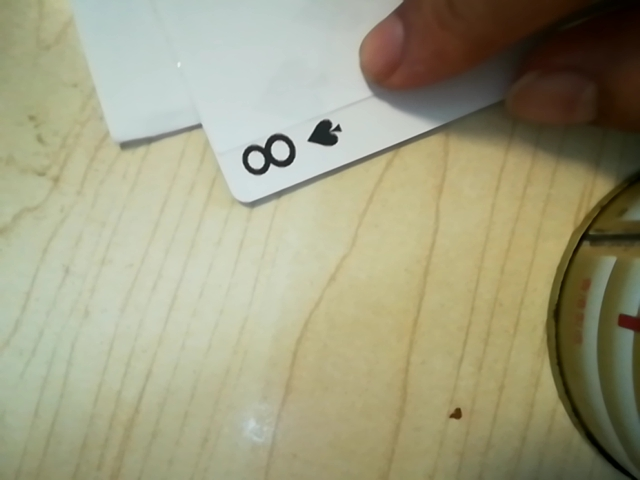ht 8: (227, 102, 370, 189)
